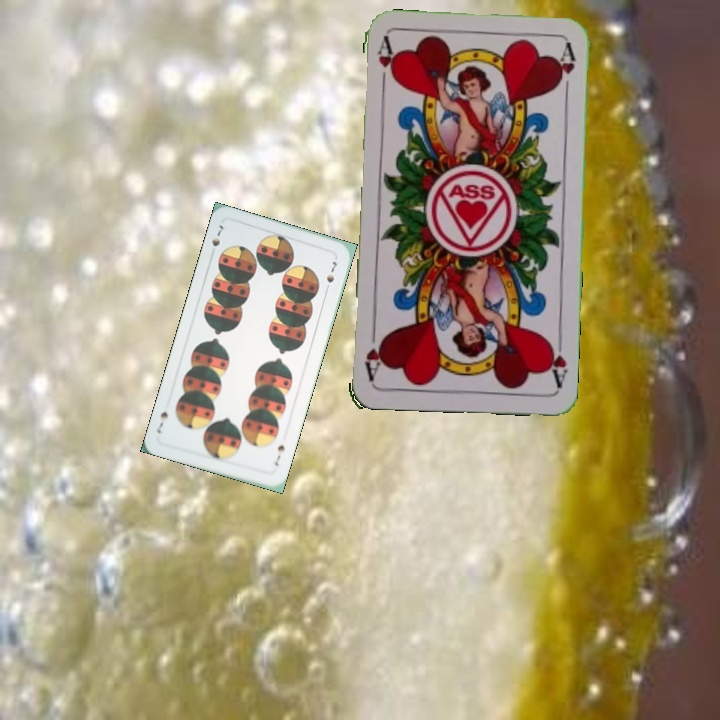HA: (543, 331, 570, 390), (373, 34, 397, 93)
S7: (208, 221, 226, 249), (270, 440, 287, 468)
